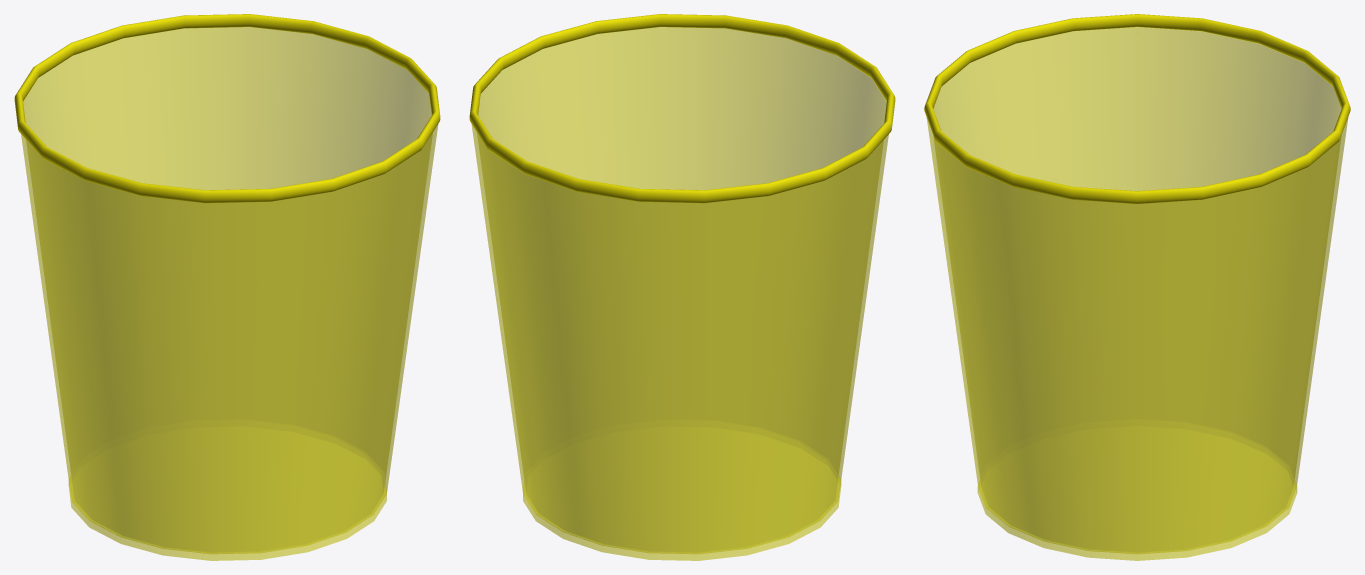
The model's file is basket amarelo.fbx.
The picture shows the model from 3 angles, left to right: view 1: azimuth 30°, elevation 25°; view 2: azimuth 150°, elevation 25°; view 3: azimuth 270°, elevation 25°; orthographic projection.
Parts seen in each view (by area): view 1: polySurface1, pTorus1; view 2: polySurface1, pTorus1; view 3: polySurface1, pTorus1.
Boxes of the visible parts, x1,y1,x2,y2 form: polySurface1: [21, 27, 438, 560]; pTorus1: [14, 14, 440, 203]; polySurface1: [471, 27, 888, 560]; pTorus1: [469, 14, 895, 203]; polySurface1: [926, 27, 1348, 560]; pTorus1: [924, 14, 1350, 203].
Bounding box in the file's own units: 0.5014 × 0.5051 × 0.4999.
